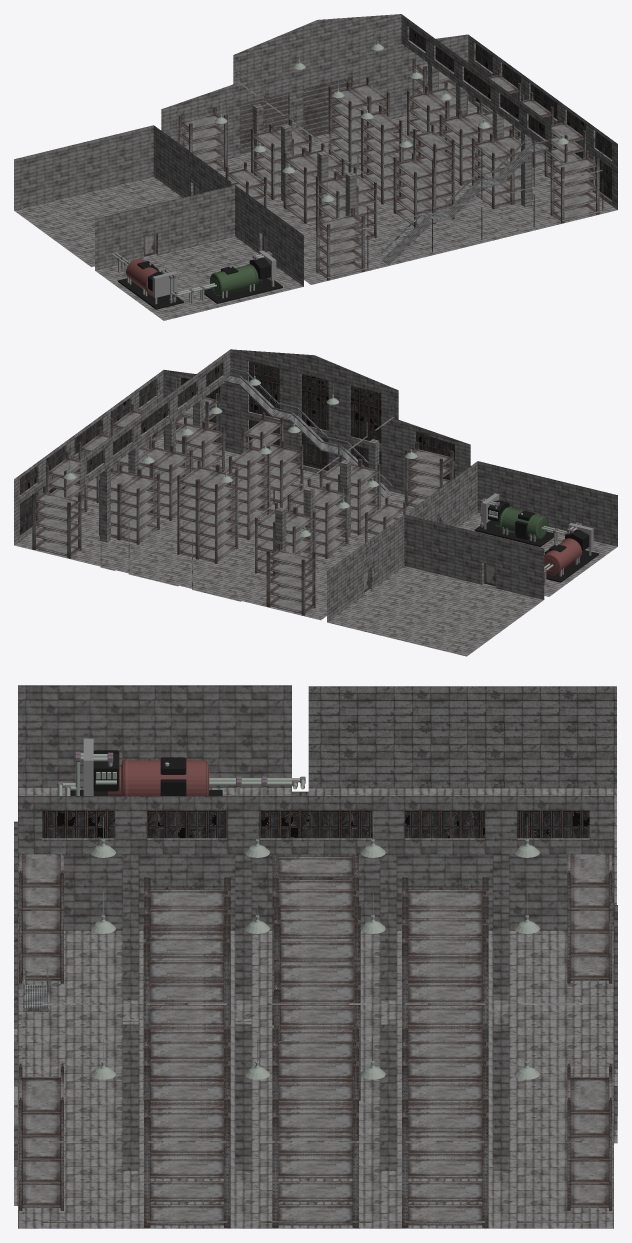
File: Eddy Sucks.glb
The picture shows the model from 3 angles, top to bottom: view 1: azimuth 30°, elevation 25°; view 2: azimuth 150°, elevation 25°; view 3: azimuth 270°, elevation 25°; orthographic projection. The views are drawn at different scales.
Visible parts, largest first — view 1: Warehouse-col.001, Grate Staircae.002, Generator-col.038, Generator-col.045, Warehouse-col.005, Generator-col.115, Warehouse-col.008, Generator-col.108, Generator-col.113, Warehouse-col.009, Grate Staircae.003, Warehouse-col.007 (+18 smaller); view 2: Warehouse-col.001, Grate Staircae.002, Generator-col.038, Generator-col.108, Warehouse-col.003, Generator-col.045, Warehouse-col.006, Warehouse-col.007, Generator-col.115, Warehouse-col.009, Warehouse-col.008, Shelving_Unit_Base_Tall-col.005 (+16 smaller); view 3: Warehouse-col.001, Warehouse-col.003, Warehouse-col.005, Warehouse-col.004, Warehouse-col.002, Generator-col.108, Warehouse-col.007, Warehouse-col.009, Warehouse-col.008, Warehouse-col.006, Shelving_Unit_Base_Tall-col.006, Shelving_Unit_Small-col.143 (+74 smaller).
Boxes of the visible parts, x1,y1,x2,y2 form: Warehouse-col.001: (14,14,617,320); Grate Staircae.002: (381,143,548,266); Generator-col.038: (210,264,263,295); Generator-col.045: (204,278,282,303); Warehouse-col.005: (521,131,531,206); Generator-col.115: (118,278,183,309); Warehouse-col.008: (281,124,291,201); Generator-col.108: (126,259,157,295); Generator-col.113: (152,271,177,297); Warehouse-col.009: (345,172,356,238); Grate Staircae.003: (386,140,548,258); Warehouse-col.007: (252,103,263,179); Warehouse-col.001: (14,349,617,656); Grate Staircae.002: (224,376,391,497); Generator-col.038: (494,507,547,539); Generator-col.108: (544,538,582,575); Warehouse-col.003: (100,466,110,542); Generator-col.045: (474,520,553,546); Warehouse-col.006: (340,460,350,537); Warehouse-col.007: (275,507,286,574); Generator-col.115: (546,550,598,582); Warehouse-col.009: (368,439,379,514); Warehouse-col.008: (303,486,314,563); Shelving_Unit_Base_Tall-col.005: (242,419,283,439); Warehouse-col.001: (14,685,617,1228); Warehouse-col.003: (493,1018,509,1170); Warehouse-col.005: (122,1018,138,1170); Warehouse-col.004: (380,1018,396,1170); Warehouse-col.002: (235,1018,251,1170); Generator-col.108: (108,759,209,795); Warehouse-col.007: (493,854,509,1000); Warehouse-col.009: (122,854,138,1000); Warehouse-col.008: (380,854,396,1000); Warehouse-col.006: (235,854,251,1000); Shelving_Unit_Base_Tall-col.006: (274,941,360,962); Shelving_Unit_Small-col.143: (144,908,230,929).
Bounding box in the file's own units: 81.56 × 20.36 × 47.03.
Materials: 17 (10 with a texture image).
